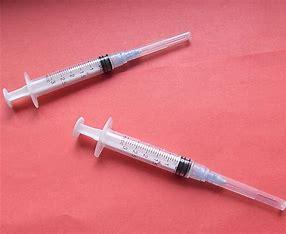Syringe: (70, 117, 286, 212), (2, 27, 196, 113)
